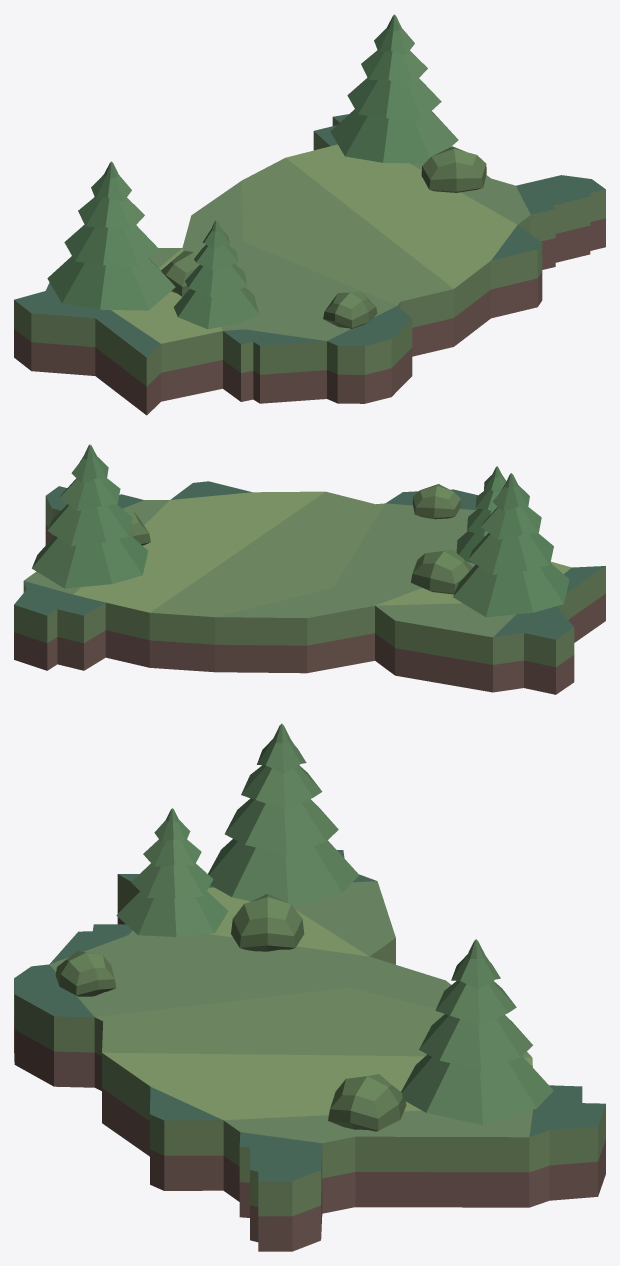
Rendered from berdigistyah.gltf.
3 renders of one model, top to bottom at view 1: azimuth 30°, elevation 25°; view 2: azimuth 150°, elevation 25°; view 3: azimuth 270°, elevation 25°, orthographic. The views are drawn at different scales.
Parts seen in each view (by area): view 1: бердигестях; view 2: бердигестях; view 3: бердигестях.
Boxes of the visible parts, x1,y1,x2,y2 form: бердигестях: (14, 14, 605, 415); бердигестях: (14, 444, 605, 694); бердигестях: (14, 723, 605, 1251).
Bounding box in the file's own units: 1.58 × 0.5325 × 1.19.
